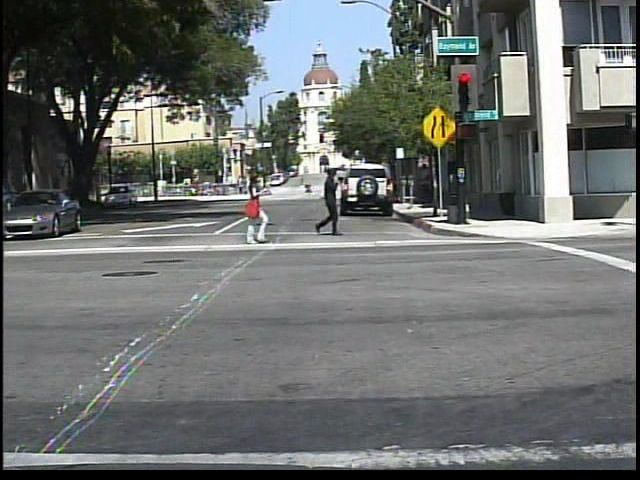person: (235, 169, 275, 244), (310, 164, 350, 238), (255, 175, 272, 198), (304, 180, 314, 197)
